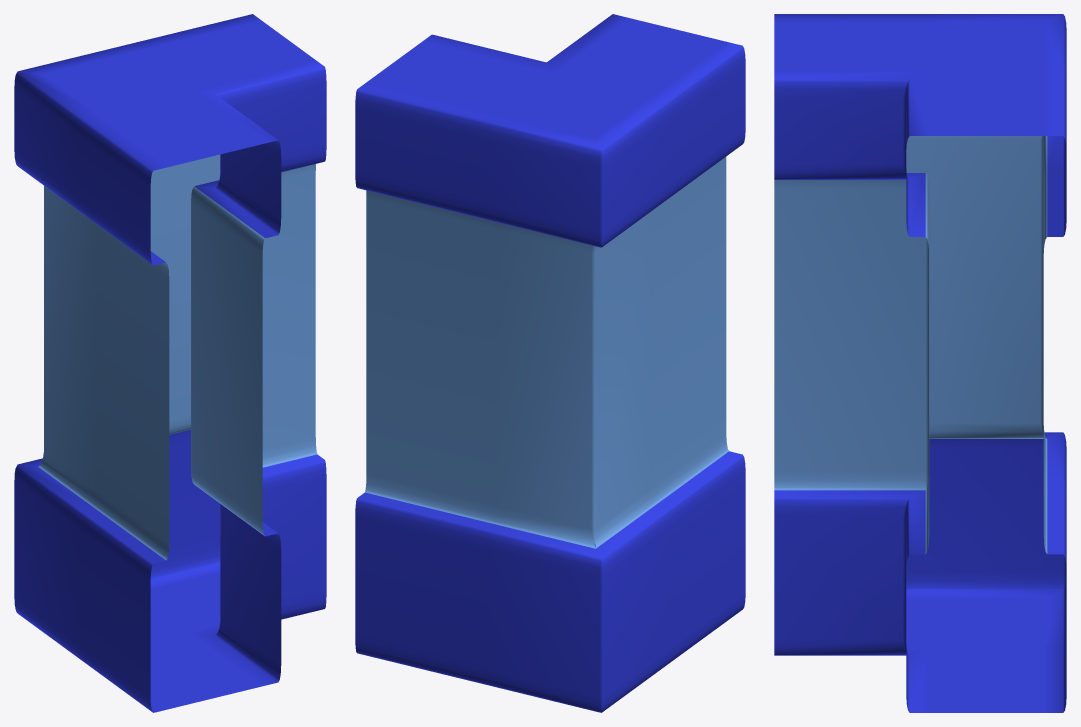
The model's file is Wall_Room_Corner_Cut.fbx.
The picture shows the model from 3 angles, left to right: view 1: azimuth 30°, elevation 25°; view 2: azimuth 150°, elevation 25°; view 3: azimuth 270°, elevation 25°; orthographic projection. The views are drawn at different scales.
Parts seen in each view (by area): view 1: Wall_Room_Corner_Cut; view 2: Wall_Room_Corner_Cut; view 3: Wall_Room_Corner_Cut.
Part boxes in pixels (bbox=[...]): Wall_Room_Corner_Cut: bbox=[14, 14, 326, 712]; Wall_Room_Corner_Cut: bbox=[355, 14, 745, 712]; Wall_Room_Corner_Cut: bbox=[774, 14, 1066, 712].
Size of the model in its own units: 2.76 by 2.76 by 6.
